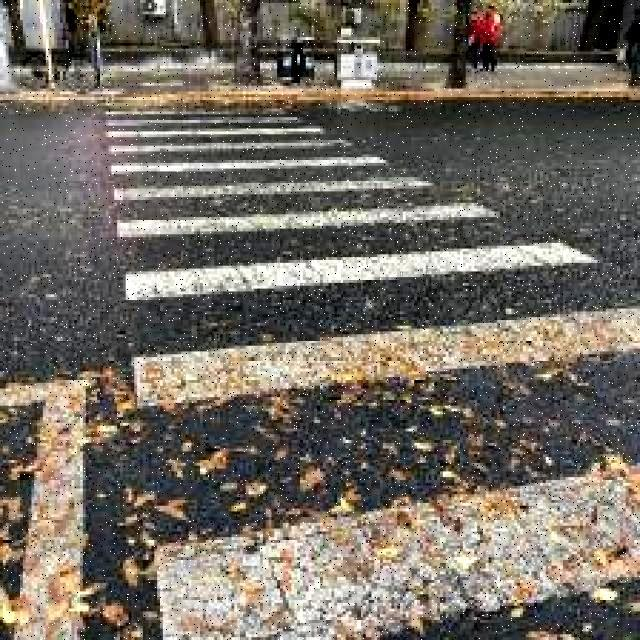crosswalk: (32, 88, 637, 520)
